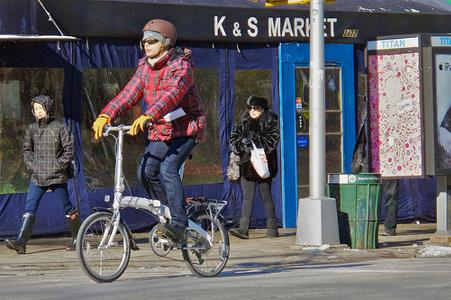person: (91, 20, 205, 250)
